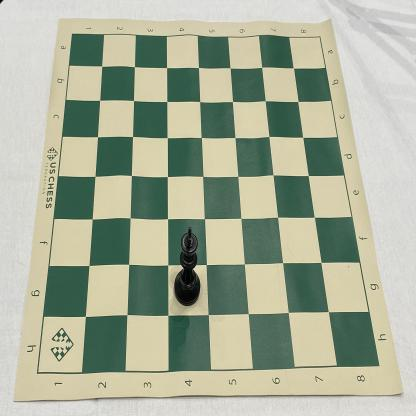black-king: (174, 227, 201, 306)
